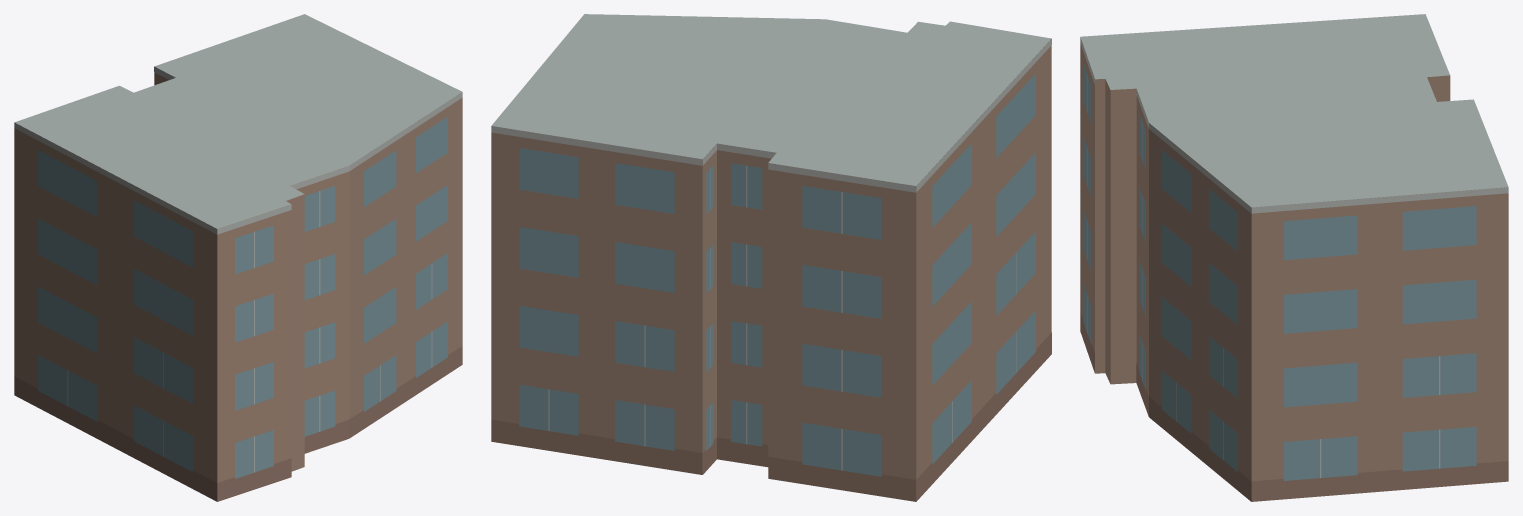
Rendered from survey-upis-32809874.glb.
3 views of the same model, side by side, from view 1: azimuth 30°, elevation 25°; view 2: azimuth 150°, elevation 25°; view 3: azimuth 270°, elevation 25° (orthographic). The views are drawn at different scales.
Visible parts, largest first — view 1: survey-upis-32809874.tmp; view 2: survey-upis-32809874.tmp; view 3: survey-upis-32809874.tmp.
Boxes of the visible parts, bbox=[...] form: survey-upis-32809874.tmp: bbox=[14, 14, 462, 501]; survey-upis-32809874.tmp: bbox=[491, 14, 1051, 501]; survey-upis-32809874.tmp: bbox=[1080, 14, 1508, 501].
Size of the model in its own units: 16.5 by 11.7 by 15.44.
